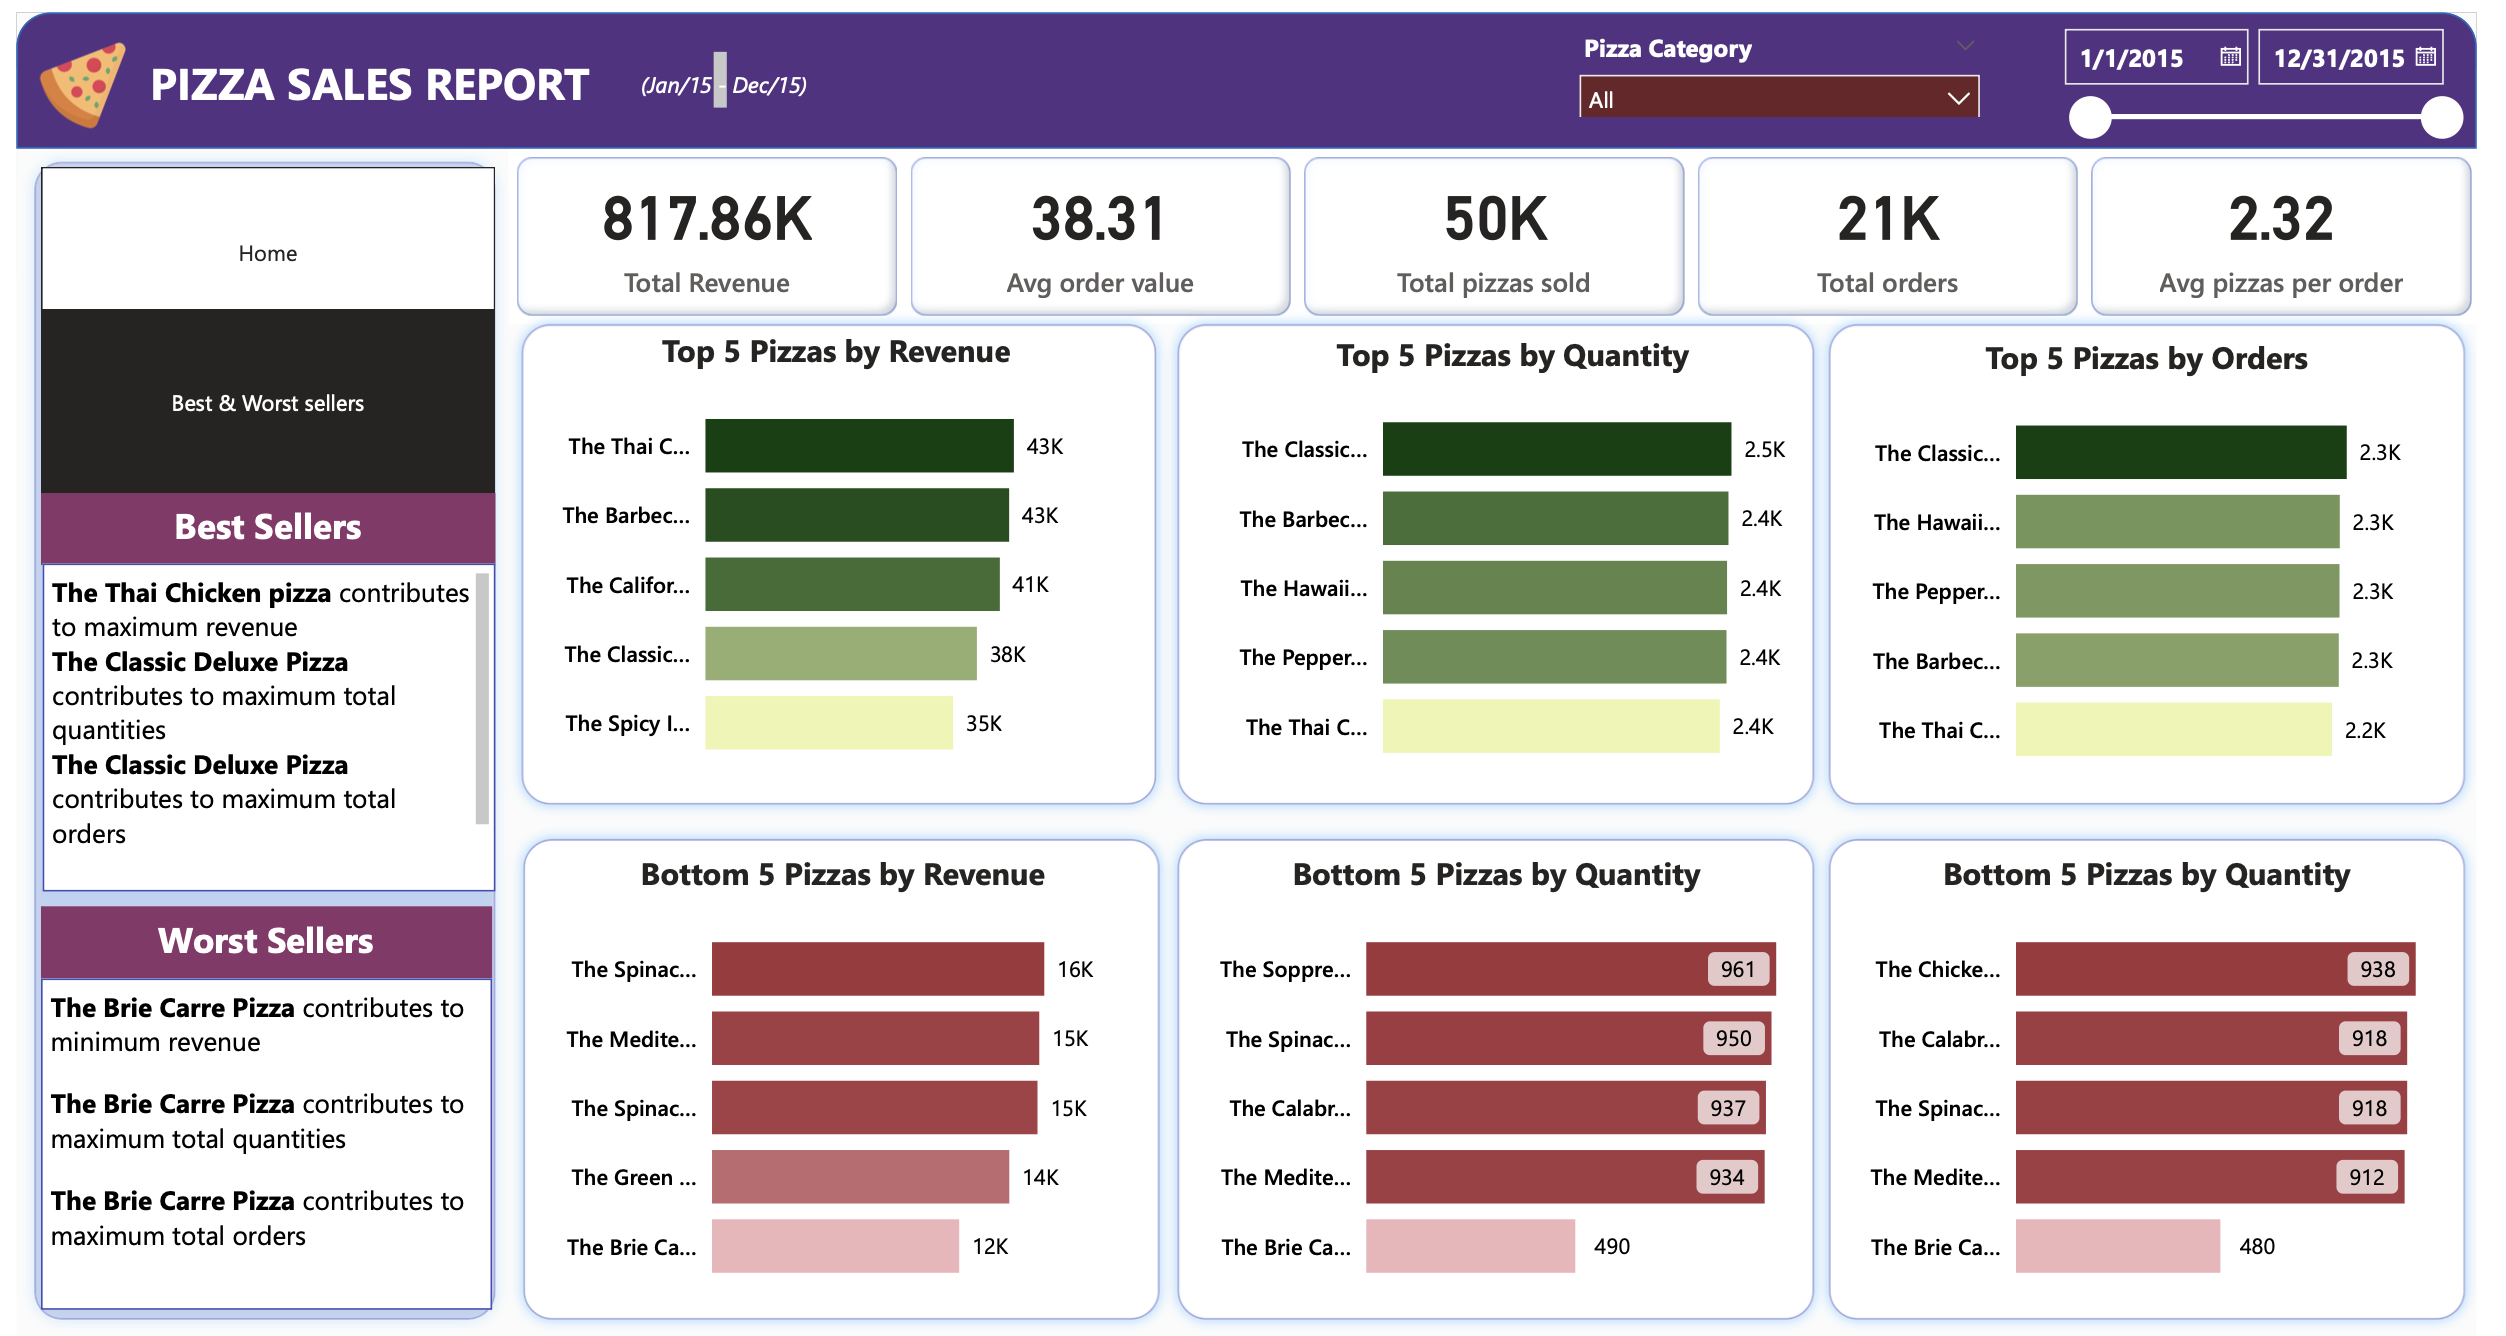

Layout of this report page (visuals, bound fields, positions):
{"tool":"powerbi","page":{"name":"Best & Worst sellers","canvas":[1500,820],"ordinal":1},"visuals":[{"type":"cardVisual","fields":{"Data":["pizza_sales.Total Revenue","pizza_sales.Avg order value","pizza_sales.Total pizzas sold","pizza_sales.Total orders","pizza_sales.Avg pizzas per order"]},"box":[300.3,82.7,1204.1,107.4],"z":0},{"type":"shape","box":[0,0,1500,82.7],"z":1000},{"type":"textbox","box":[76.9,18.9,361.2,45],"z":2000},{"type":"shape","box":[2.9,82.7,297.4,722.4],"z":3000},{"type":"textbox","box":[375.7,30.5,123.3,26.1],"z":4000},{"type":"image","box":[0,11.6,81.2,65.3],"z":5000},{"type":"shape","box":[299.8,181.5,403.5,309.5],"z":6000},{"type":"textbox","box":[14.7,293.2,276.9,44],"z":7000},{"type":"textbox","box":[16.3,335.5,275.2,200.3],"z":8000},{"type":"textbox","box":[14.5,545.5,275.6,43.5],"z":9000},{"type":"textbox","box":[14.5,589,275.6,201.6],"z":10000},{"type":"slicer","fields":{"Values":["pizza_sales.order_date"]},"box":[1236,0,264,94.3],"z":11000},{"type":"slicer","fields":{"Values":["pizza_sales.pizza_category"]},"box":[942.9,5.8,264,58],"z":12000},{"type":"shape","box":[700.1,181.5,403.5,309.5],"z":13000},{"type":"shape","box":[1097.1,181.5,403.5,309.5],"z":14000},{"type":"shape","box":[301.4,495.9,403.5,309.5],"z":15000},{"type":"shape","box":[1097.1,495.9,403.5,309.5],"z":16000},{"type":"shape","box":[700.1,495.9,403.5,309.5],"z":17000},{"type":"barChart","title":"Top 5 Pizzas by Revenue","fields":{"Category":["pizza_sales.pizza_name"],"Y":["pizza_sales.Total Revenue"]},"box":[314.7,193.2,370.5,278.9],"z":18000},{"type":"barChart","title":"Bottom 5 Pizzas by Revenue","fields":{"Category":["pizza_sales.pizza_name"],"Y":["pizza_sales.Total Revenue"]},"box":[318.7,512,370.5,278.9],"z":19000},{"type":"barChart","title":"Top 5 Pizzas by Quantity","fields":{"Category":["pizza_sales.pizza_name"],"Y":["pizza_sales.Total pizzas sold"]},"box":[727.1,195.2,370.5,278.9],"z":20000},{"type":"barChart","title":"Bottom 5 Pizzas by Quantity","fields":{"Category":["pizza_sales.pizza_name"],"Y":["pizza_sales.Total pizzas sold"]},"box":[717.1,512,370.5,278.9],"z":21000},{"type":"barChart","title":"Top 5 Pizzas by Orders","fields":{"Category":["pizza_sales.pizza_name"],"Y":["pizza_sales.Total orders"]},"box":[1113.5,197.2,370.5,278.9],"z":22000},{"type":"barChart","title":"Bottom 5 Pizzas by Quantity","fields":{"Category":["pizza_sales.pizza_name"],"Y":["pizza_sales.Total orders"]},"box":[1113.5,512,370.5,278.9],"z":23000},{"type":"pageNavigator","box":[14.7,94.5,276.9,102.6],"z":23001},{"type":"pageNavigator","box":[14.7,180.8,276.9,112.4],"z":23002}]}

Visuals, with their boxes in screenshot pixels (x1, y1, x2, y2), scaled from the page's 1500x820 canvas onto the 2506x1336 screenshot:
cardVisual - pizza_sales.Total Revenue x pizza_sales.Avg order value: <box>502,135,2505,310</box>
shape: <box>0,0,2505,135</box>
textbox: <box>128,31,732,104</box>
shape: <box>5,135,502,1312</box>
textbox: <box>628,50,834,92</box>
image: <box>0,19,136,125</box>
shape: <box>501,296,1175,800</box>
textbox: <box>25,478,487,549</box>
textbox: <box>27,547,487,873</box>
textbox: <box>24,889,485,960</box>
textbox: <box>24,960,485,1288</box>
slicer - pizza_sales.order_date: <box>2065,0,2505,154</box>
slicer - pizza_sales.pizza_category: <box>1575,9,2016,104</box>
shape: <box>1170,296,1844,800</box>
shape: <box>1833,296,2505,800</box>
shape: <box>504,808,1178,1312</box>
shape: <box>1833,808,2505,1312</box>
shape: <box>1170,808,1844,1312</box>
"Top 5 Pizzas by Revenue" barChart: <box>526,315,1145,769</box>
"Bottom 5 Pizzas by Revenue" barChart: <box>532,834,1151,1289</box>
"Top 5 Pizzas by Quantity" barChart: <box>1215,318,1834,772</box>
"Bottom 5 Pizzas by Quantity" barChart: <box>1198,834,1817,1289</box>
"Top 5 Pizzas by Orders" barChart: <box>1860,321,2479,776</box>
"Bottom 5 Pizzas by Quantity" barChart: <box>1860,834,2479,1289</box>
pageNavigator: <box>25,154,487,321</box>
pageNavigator: <box>25,295,487,478</box>
